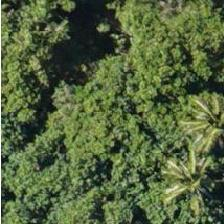coconut_tree: (140, 137, 223, 223), (165, 87, 223, 177)
